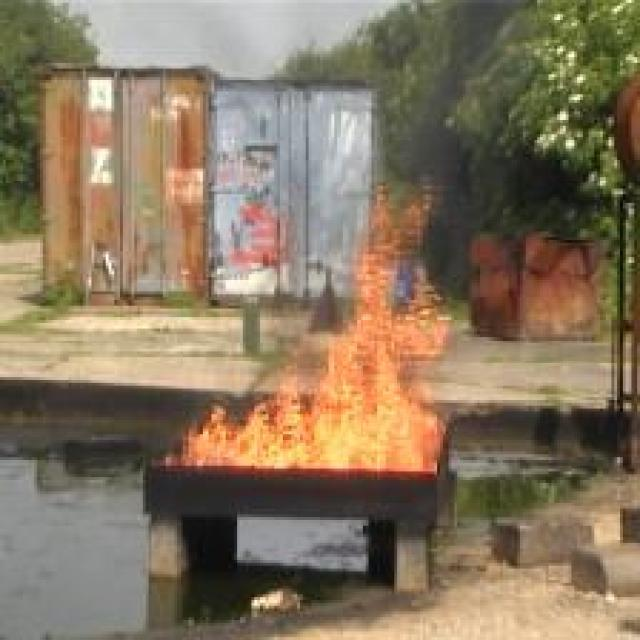Fire: (157, 180, 452, 474)
